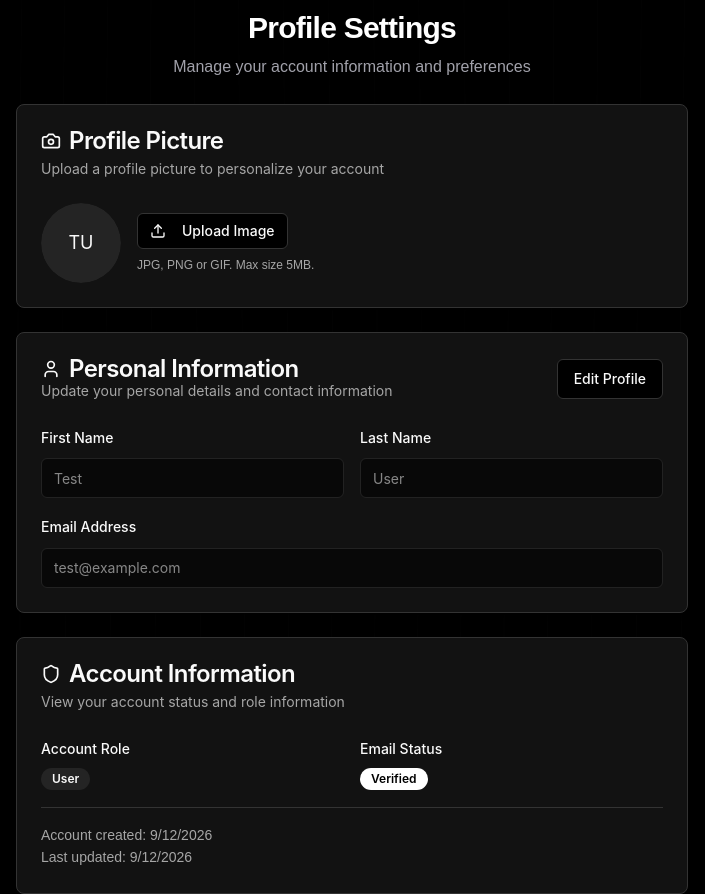
Scenario: UserProfile Page › should show loading state during profile update
Enter edit mode
Click the button "Edit Profile": {"x": 610, "y": 379} [557,359,663,399]
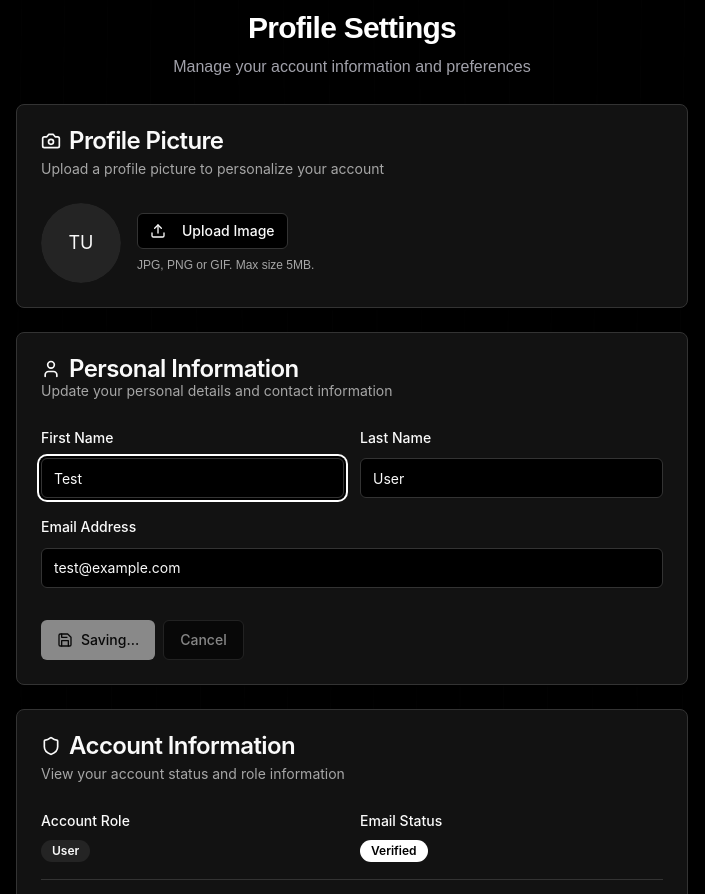
Check: the button "Saving..." is disabled, box [41,620,155,660]
